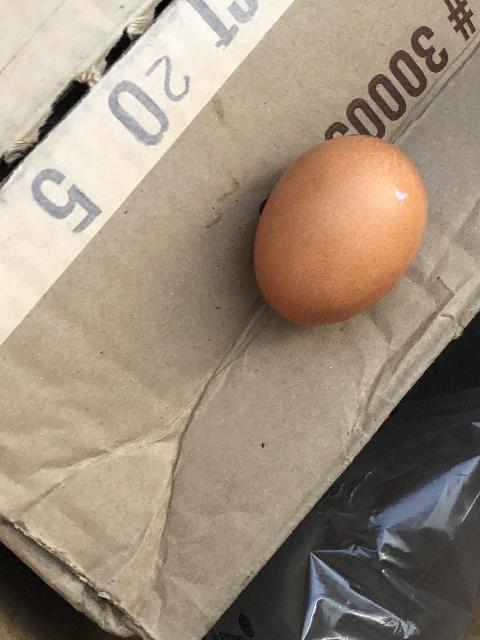Sano: (251, 133, 429, 327)
